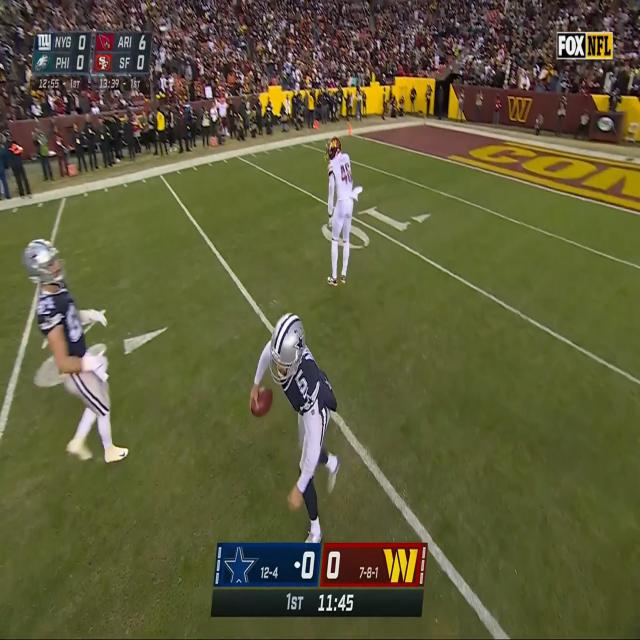football: (248, 374, 275, 424)
players: (20, 221, 135, 471), (236, 290, 348, 545), (314, 124, 362, 299)
